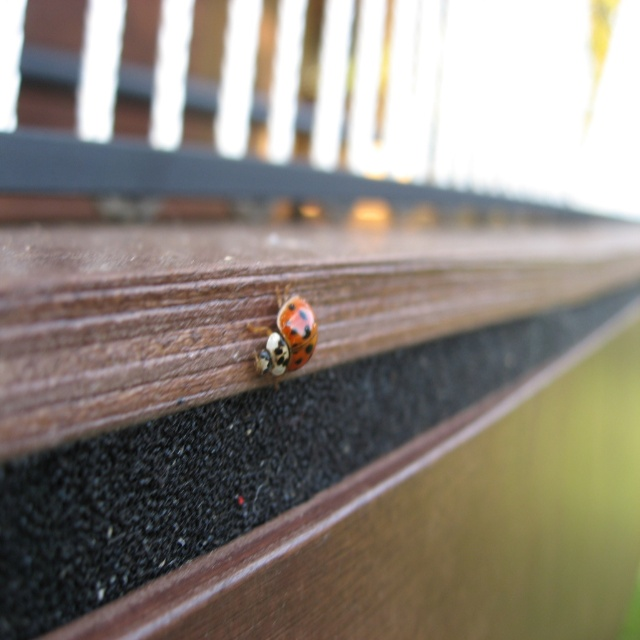Ladybug: (250, 281, 317, 376)
